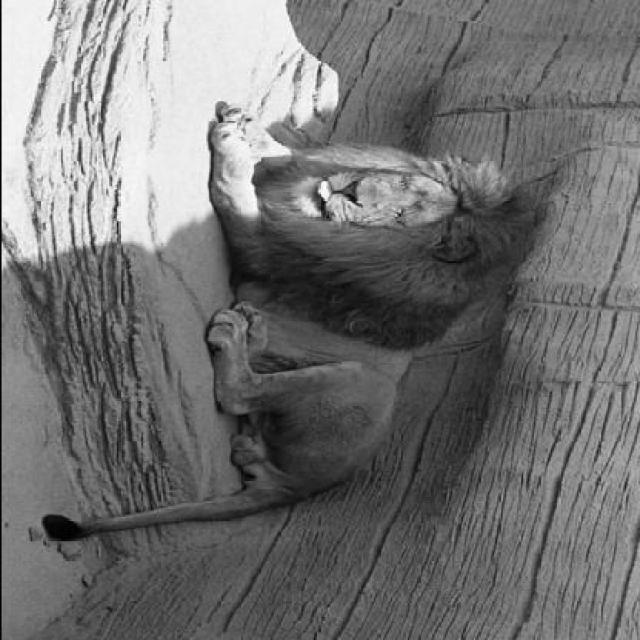Lion: (11, 104, 544, 582)
